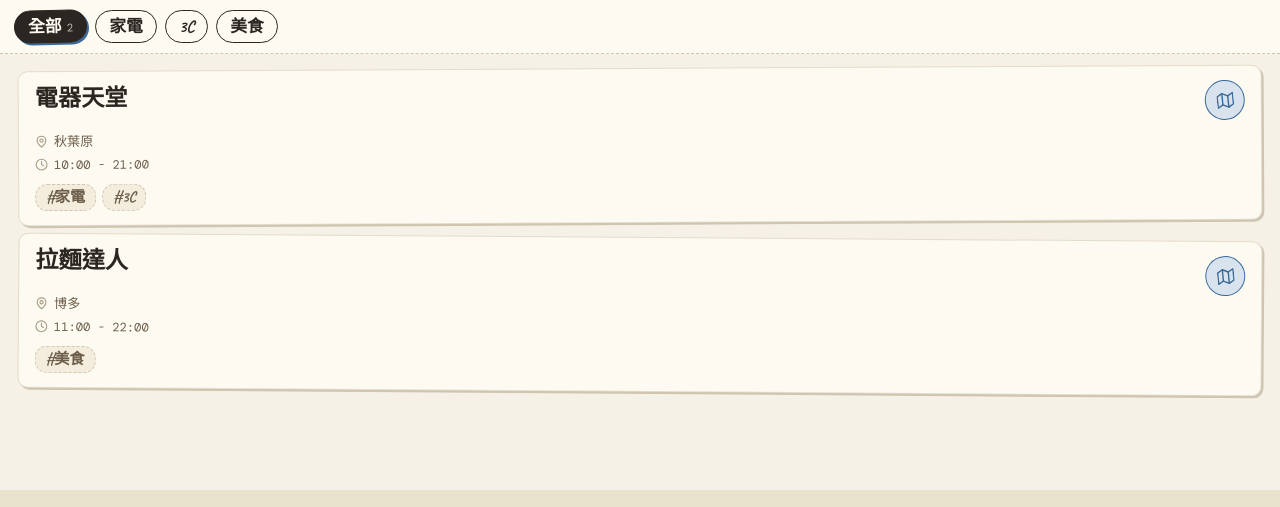
Test case: Shops › 點選全部 tag 重新顯示所有店家
Step 1. Click the button "家電" → (126, 27), box [95,10,157,43]
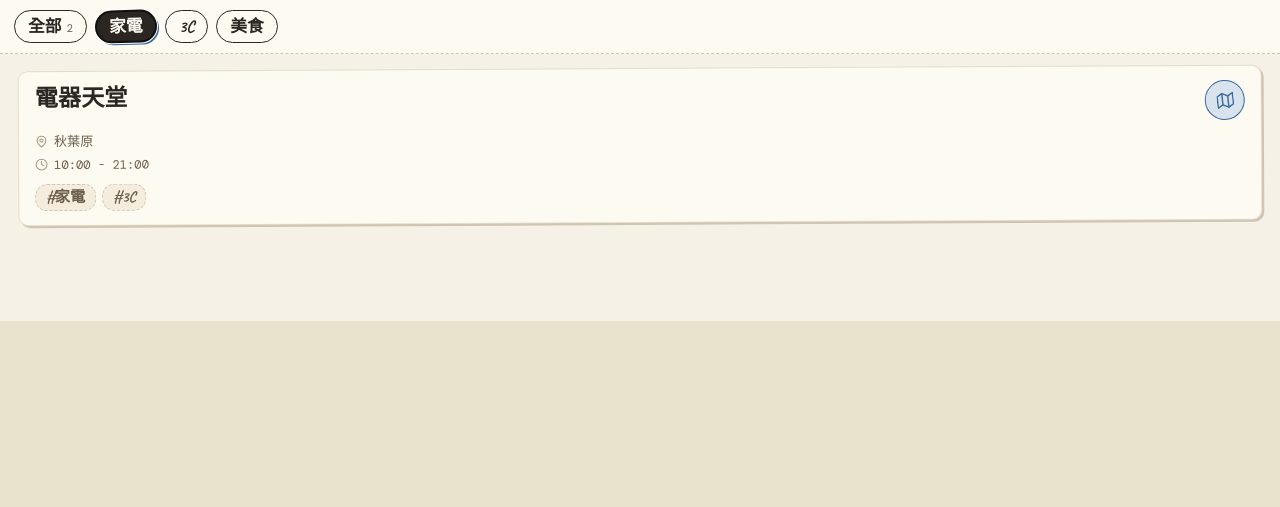
Step 2. Click the button "全部2" → (51, 27), box [14,10,87,43]
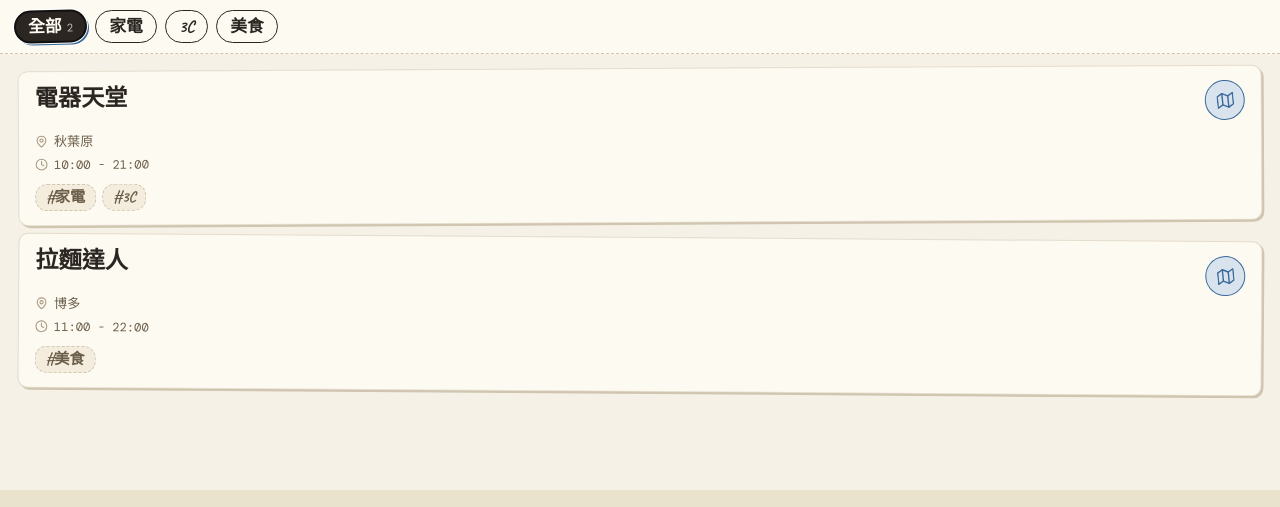
Expected: the text "電器天堂" is shown, [35,84,128,113]
Expected: the text "拉麵達人" is shown, [35,246,128,275]
